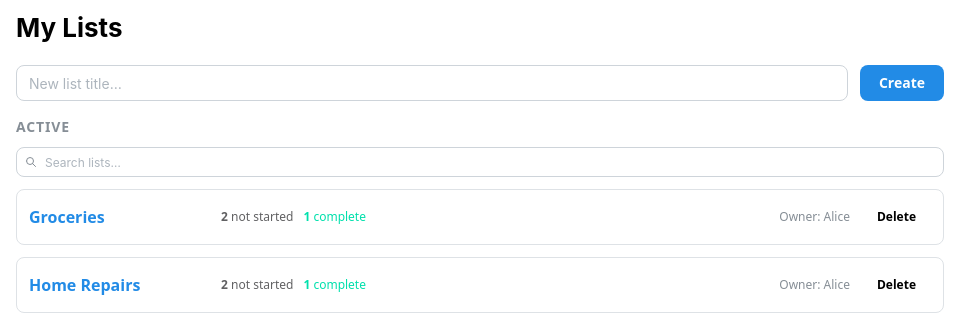
Test: ListsPage › filters the list when the user types in the search box
The width and height of the screenshot is (961, 330).
Type "groc" into the field with placeholder "Search lists…".
click(480, 162); type("groc")  # box [16,147,944,177]
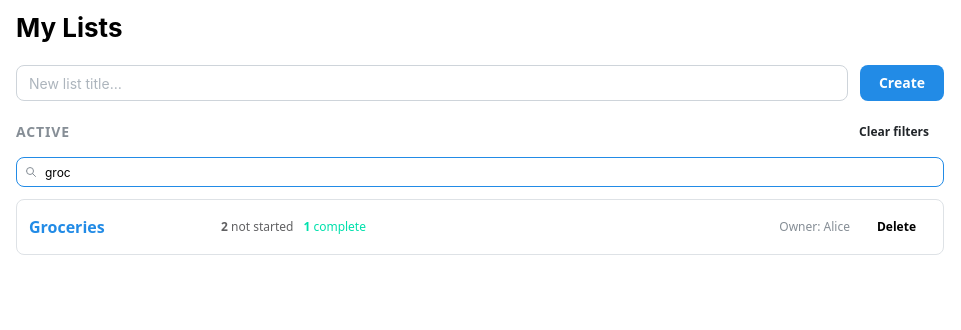
Expected: the link "Groceries" is shown, [29,216,105,238]
Result: the link "Home Repairs" is gone
